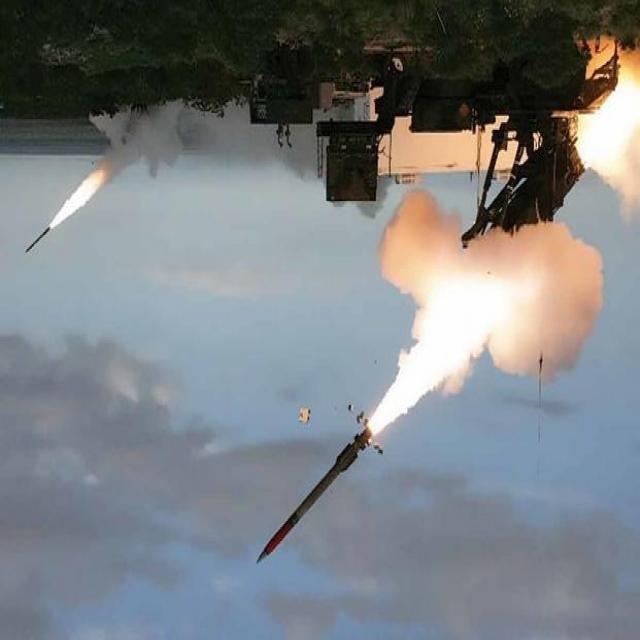missile: (253, 419, 378, 577), (26, 223, 53, 261)
